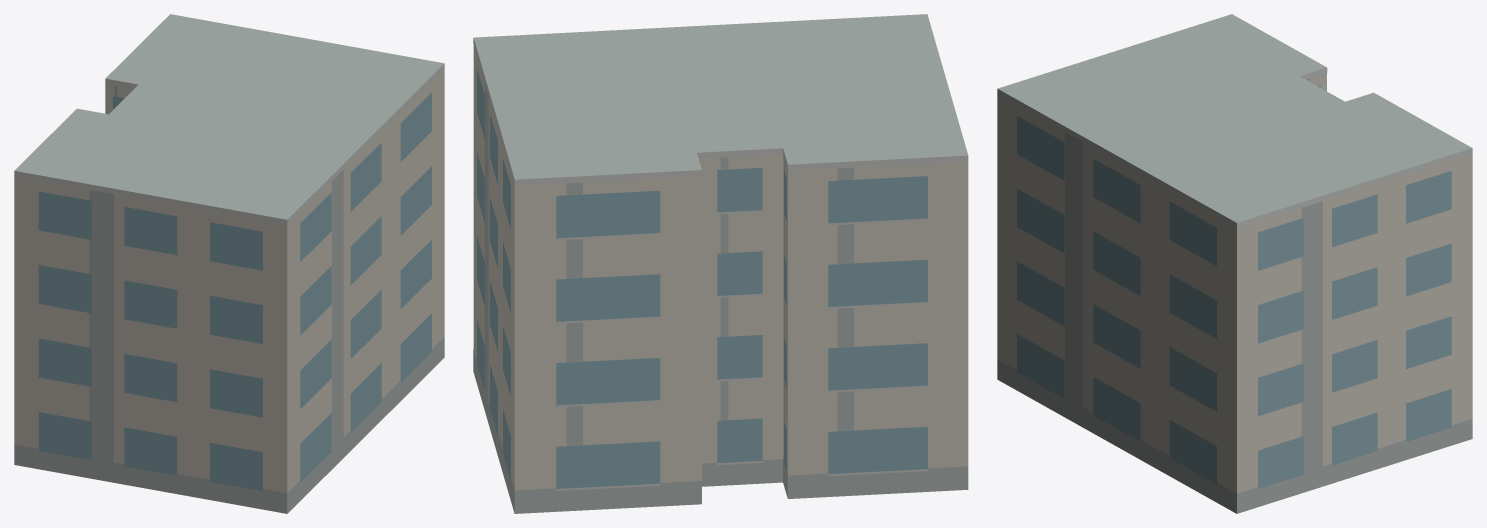
The model's file is residential-f5c0f632-3cc0-49f1-977a-b88926707553.glb.
The picture shows the model from 3 angles, left to right: view 1: azimuth 30°, elevation 25°; view 2: azimuth 150°, elevation 25°; view 3: azimuth 270°, elevation 25°; orthographic projection. The views are drawn at different scales.
Parts seen in each view (by area): view 1: residential-f5c0f632-3cc0-49f1-977a-b88926707553.tmp; view 2: residential-f5c0f632-3cc0-49f1-977a-b88926707553.tmp; view 3: residential-f5c0f632-3cc0-49f1-977a-b88926707553.tmp.
Part boxes in pixels (<box>): residential-f5c0f632-3cc0-49f1-977a-b88926707553.tmp: <box>14,14,444,513</box>; residential-f5c0f632-3cc0-49f1-977a-b88926707553.tmp: <box>473,14,968,513</box>; residential-f5c0f632-3cc0-49f1-977a-b88926707553.tmp: <box>997,14,1472,513</box>.
Bounding box in the file's own units: 20.03 × 13 × 19.25.
